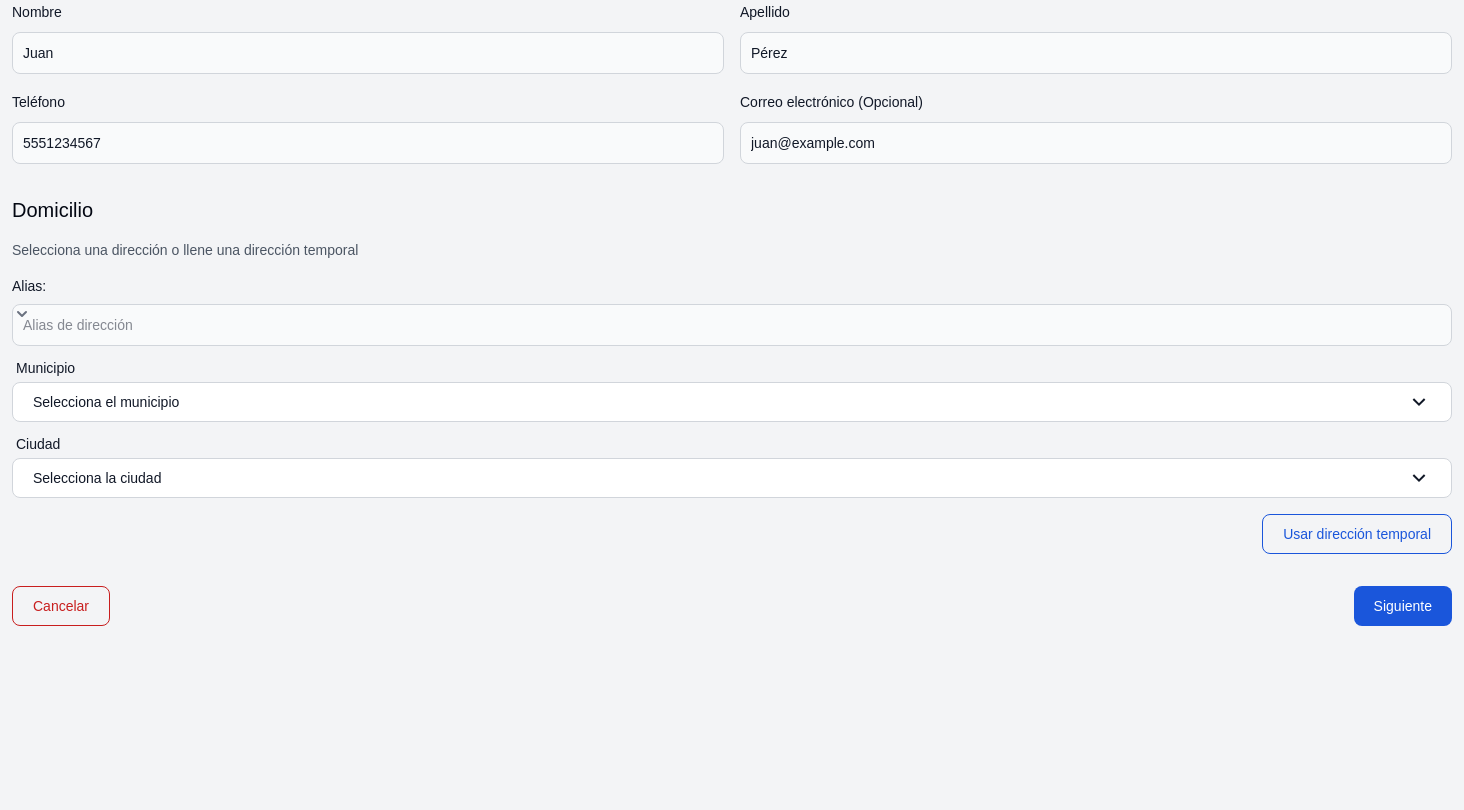
Test case: Feature: Add Address for Tone Guide Creation › Scenario: Toggle to temporary address form › Given the component renders, When user clicks the temporary address button, Then it should display the temporary address form
This screenshot has width=1464, height=810.
Click the button "Usar dirección temporal": click(1357, 534) [1262,514,1452,554]
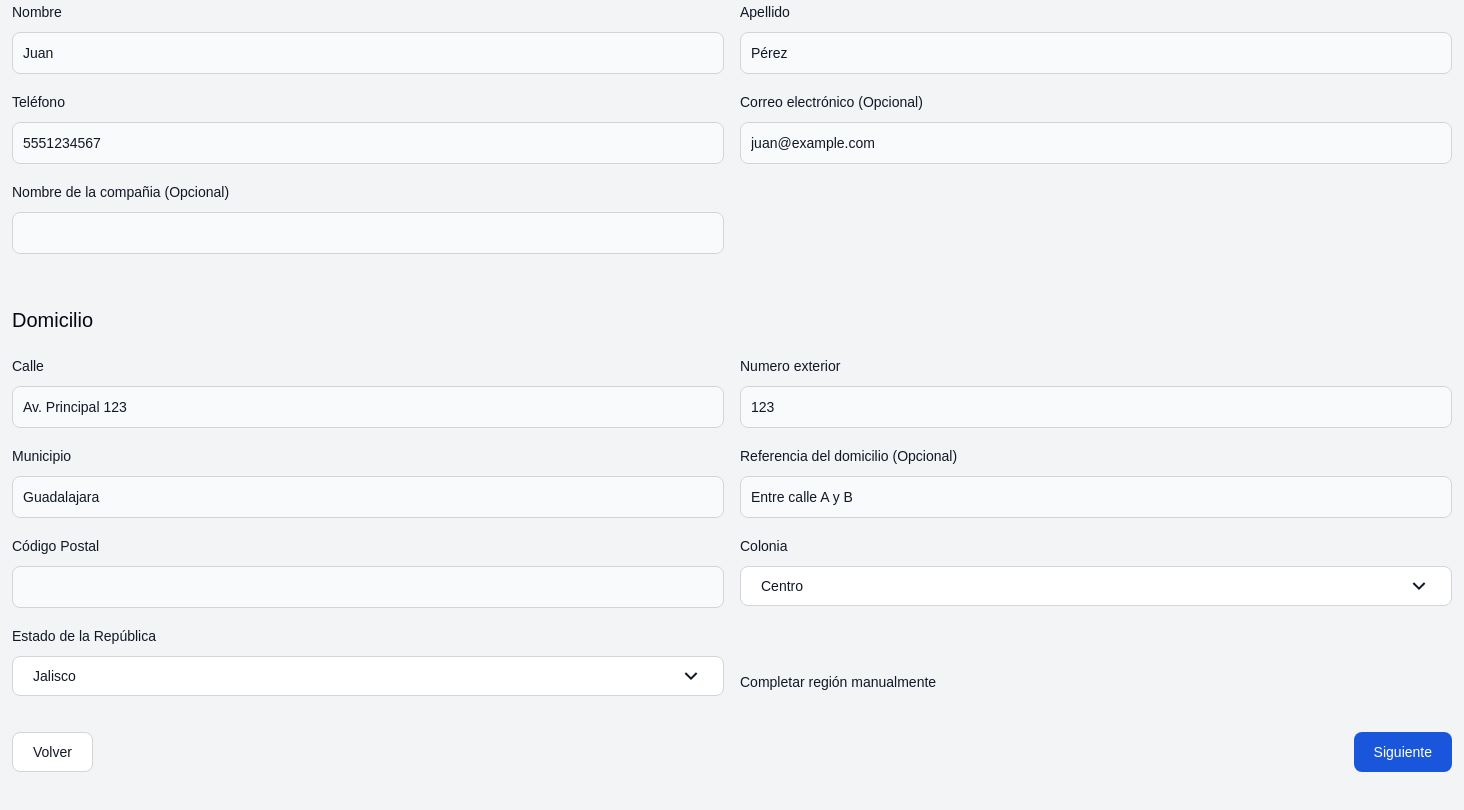
Expected: the button "Volver" is shown, [12,732,93,772]
Expected: the text "Selecciona una dirección o llene una dirección temporal" is gone
